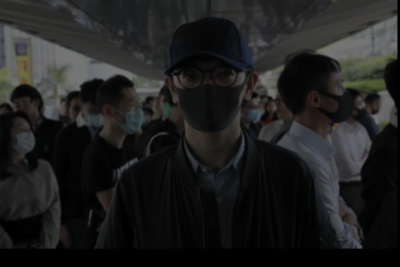with_mask: (176, 60, 246, 130), (320, 76, 356, 124), (113, 96, 145, 132), (9, 122, 36, 155), (84, 104, 105, 128), (353, 98, 367, 124), (246, 103, 261, 122)
without_mask: (13, 96, 35, 120)
